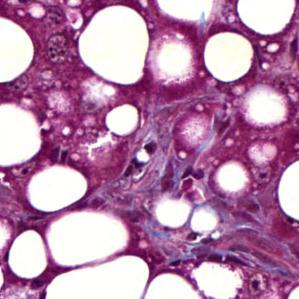steatosis: (78, 7, 151, 85), (25, 162, 89, 211), (201, 28, 255, 83), (7, 229, 49, 282)
